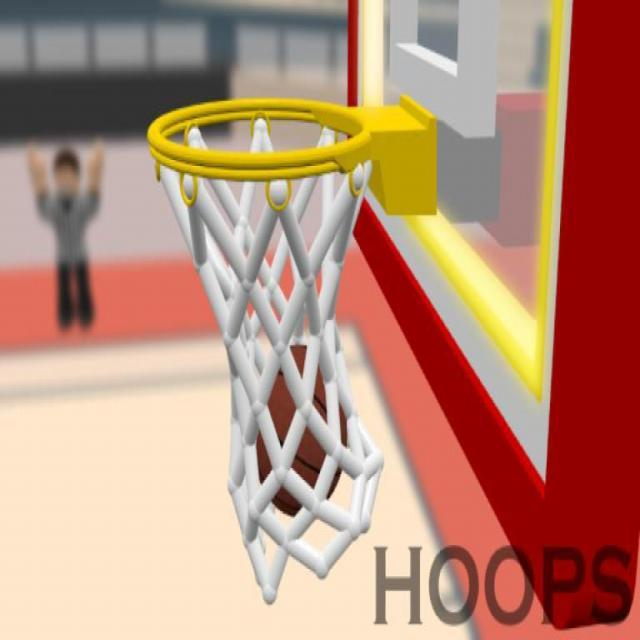Basketball: (254, 342, 348, 517)
hoop: (147, 97, 386, 604)
